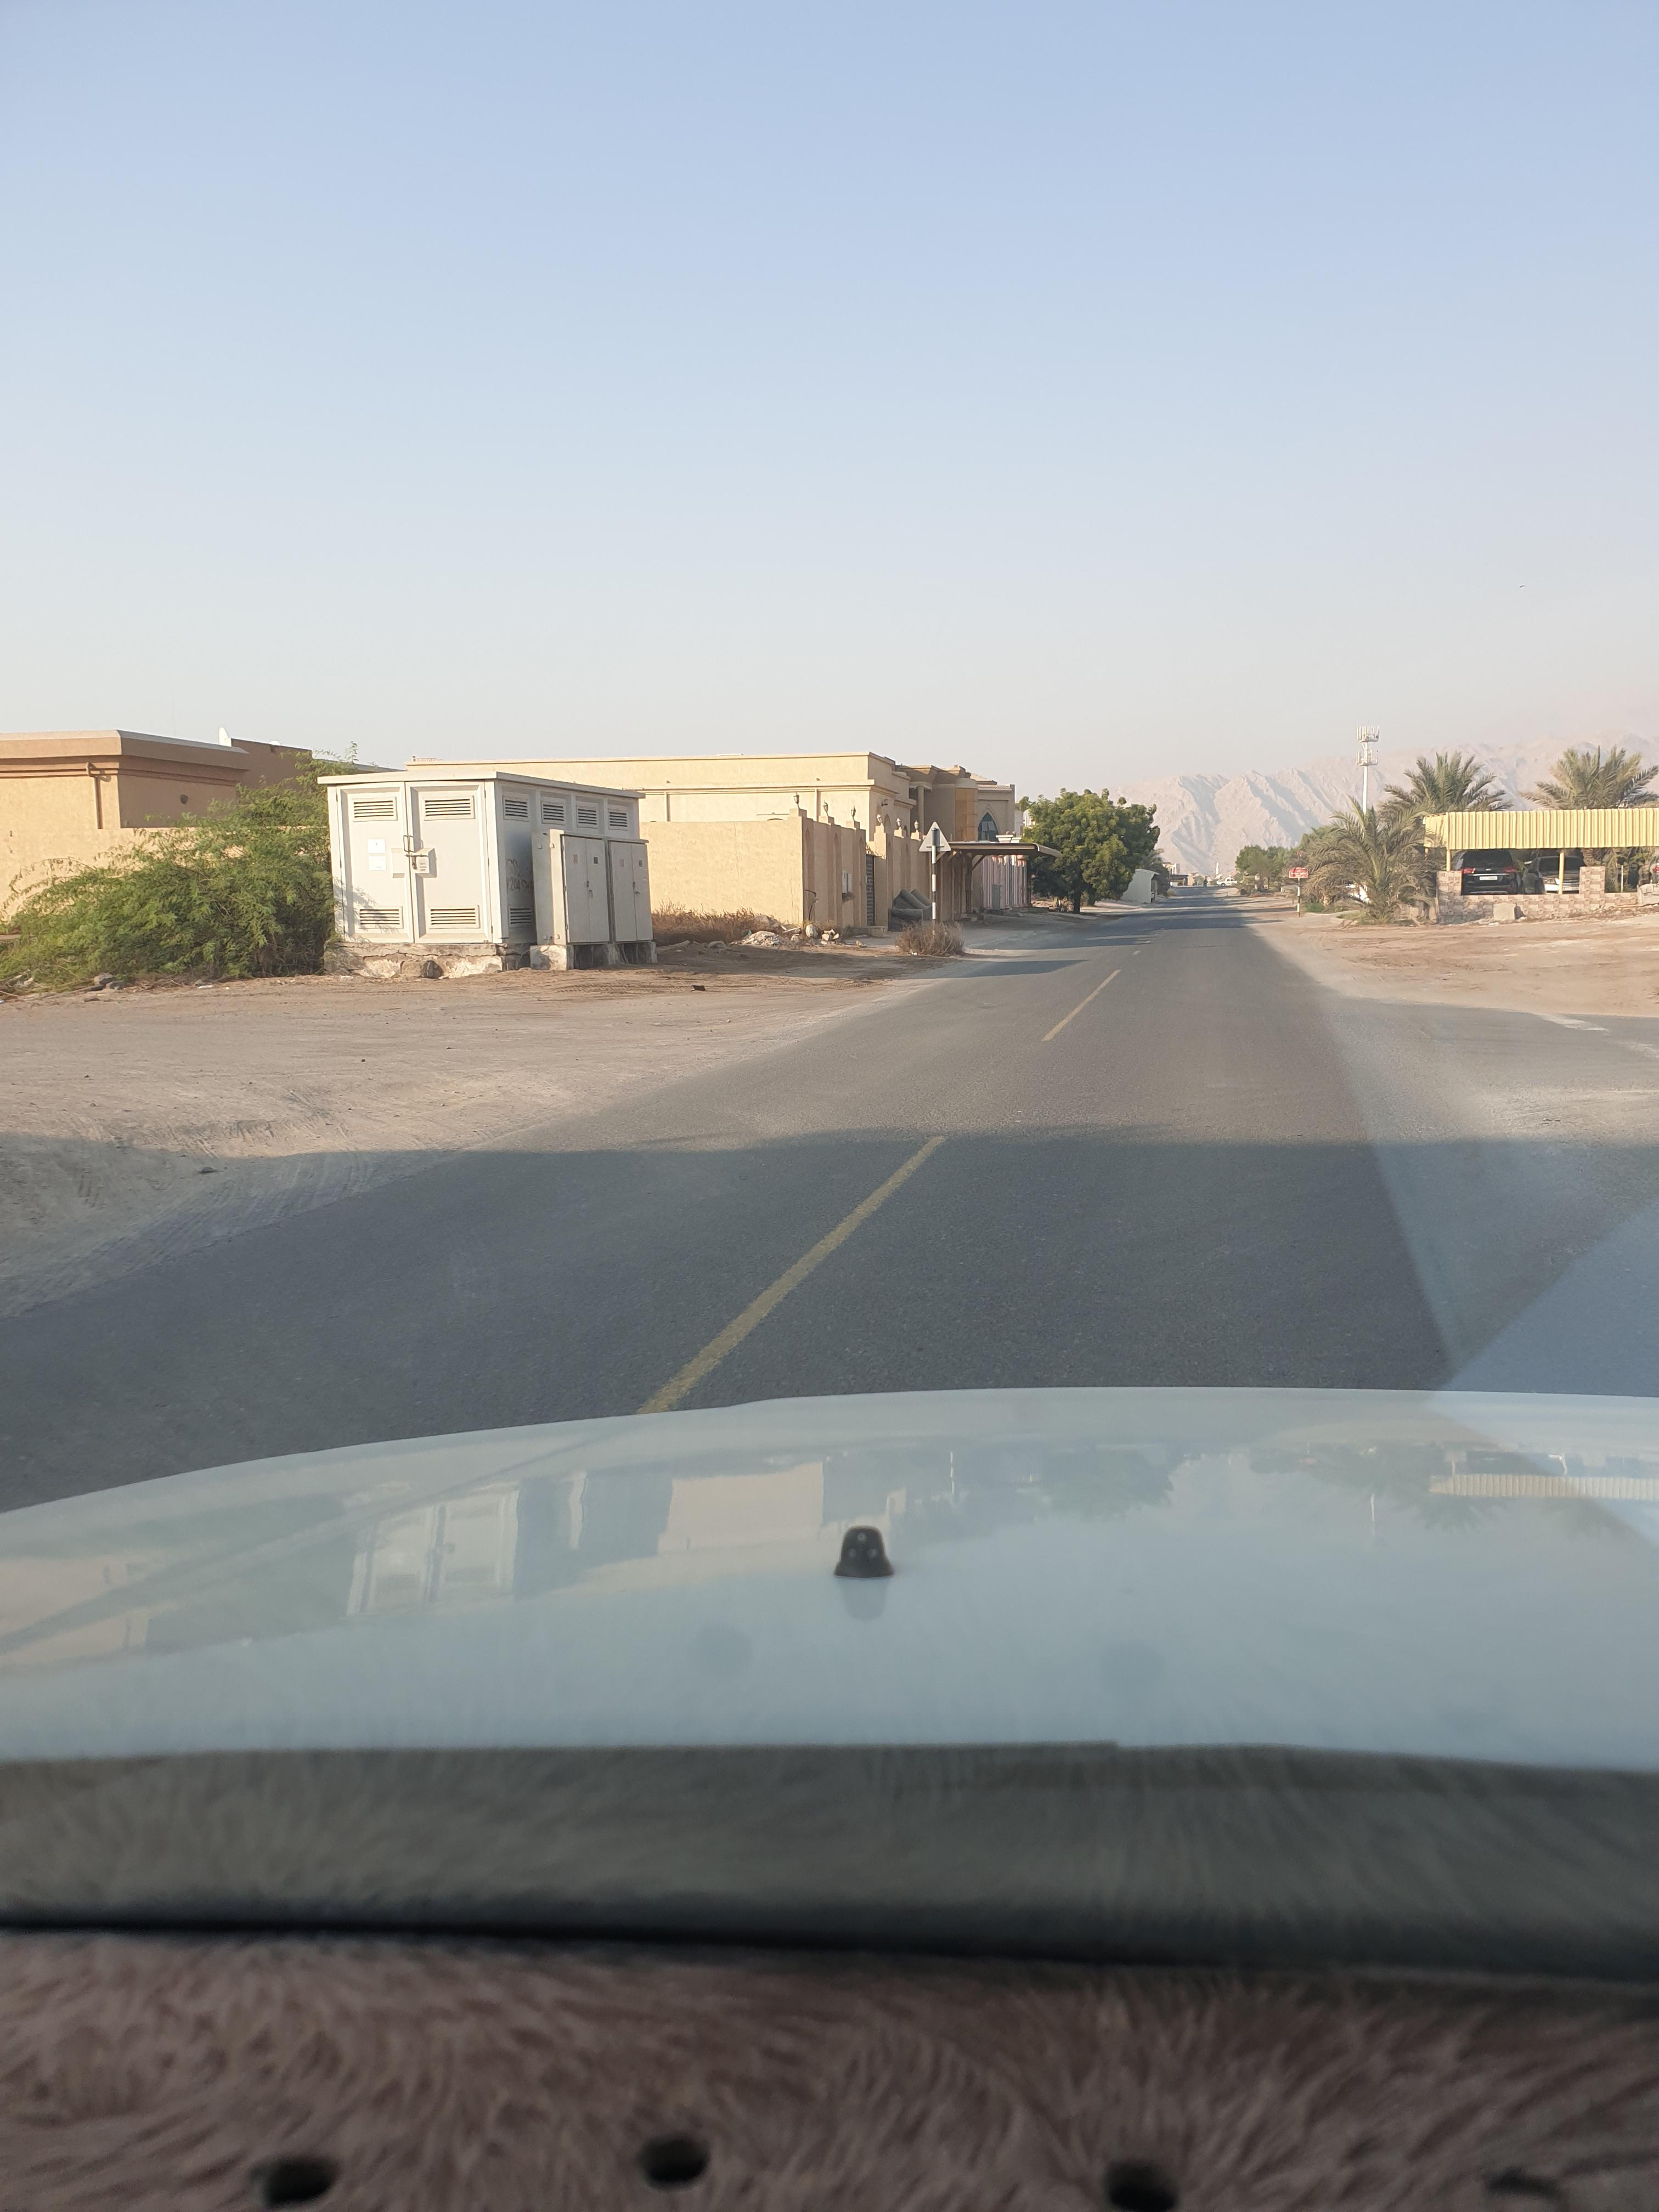uncollected_waste: (744, 930, 838, 953), (889, 897, 929, 930)
